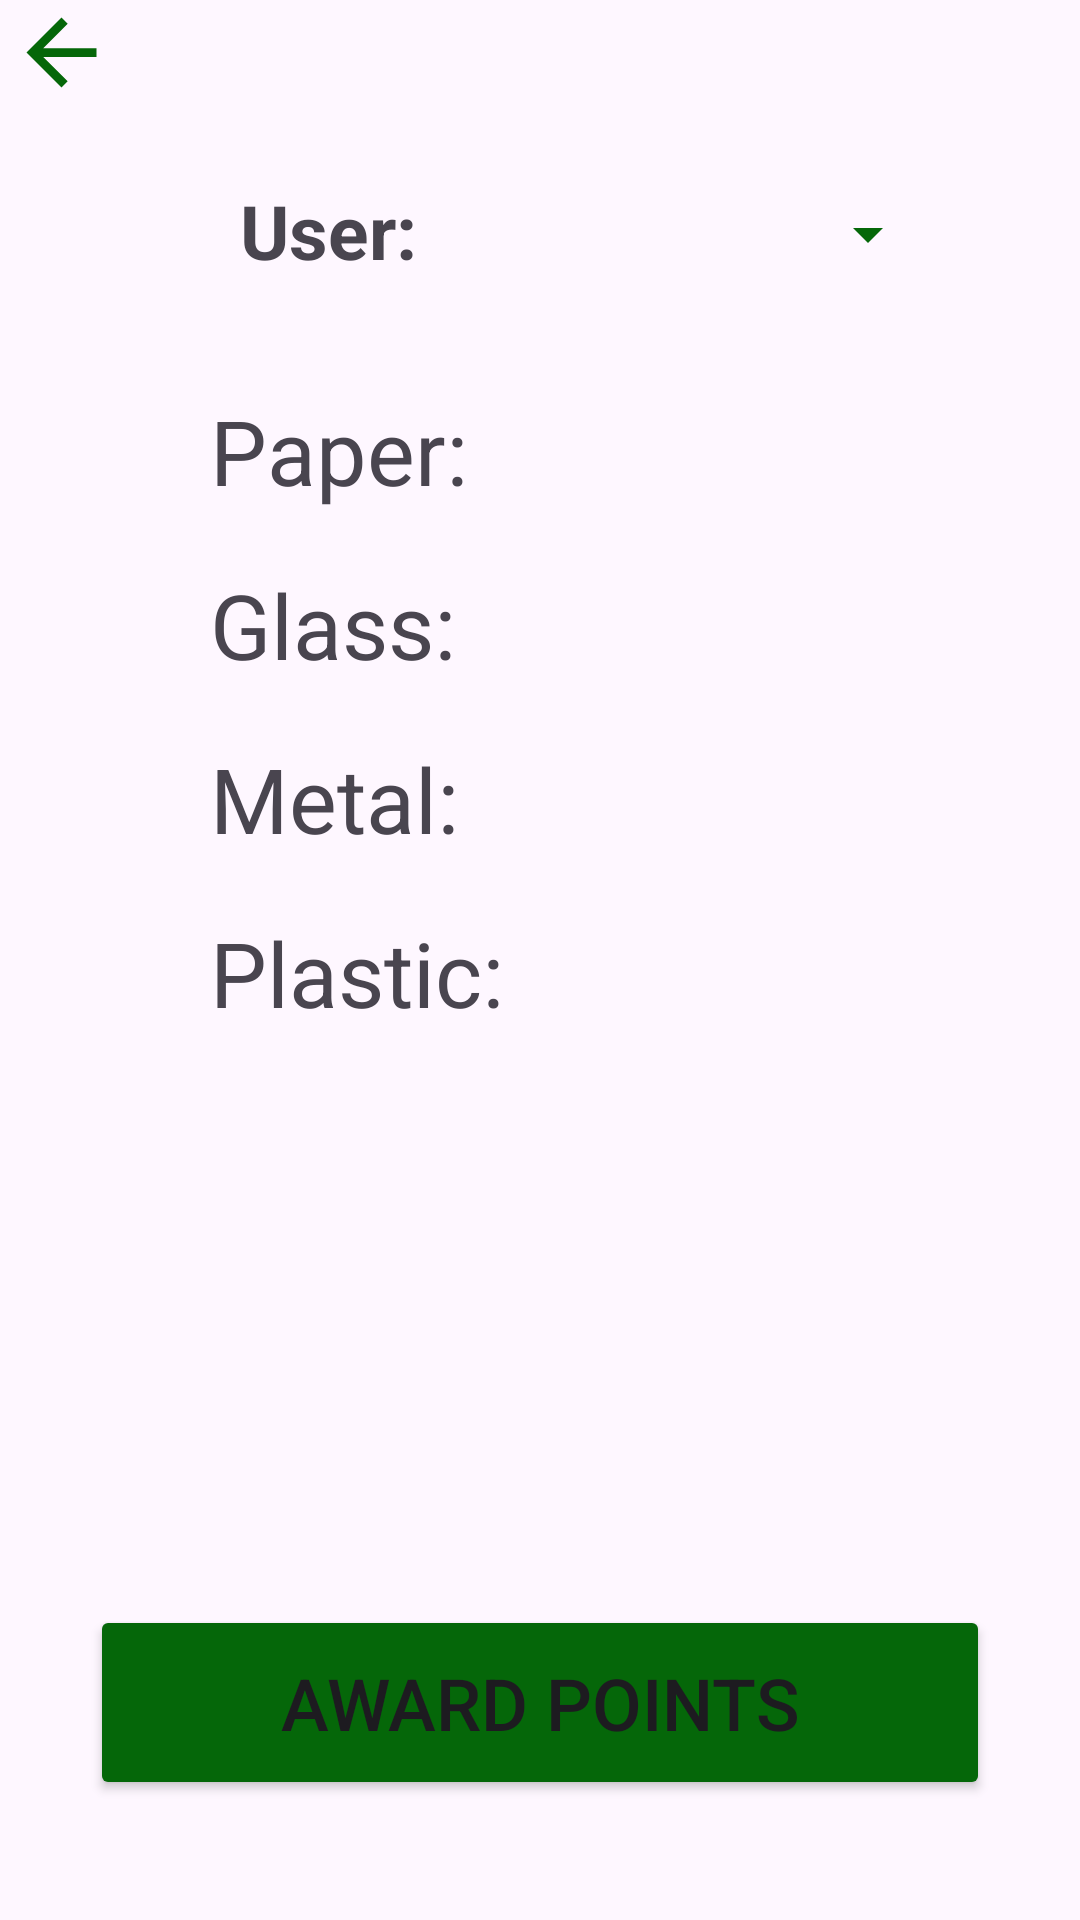

Named icons in this screenshot (1080w x 1920h) and their bounding boxes, (left=x1, top=y1, right=x2, bottom=y2):
Back: (left=26, top=17, right=97, bottom=88)
